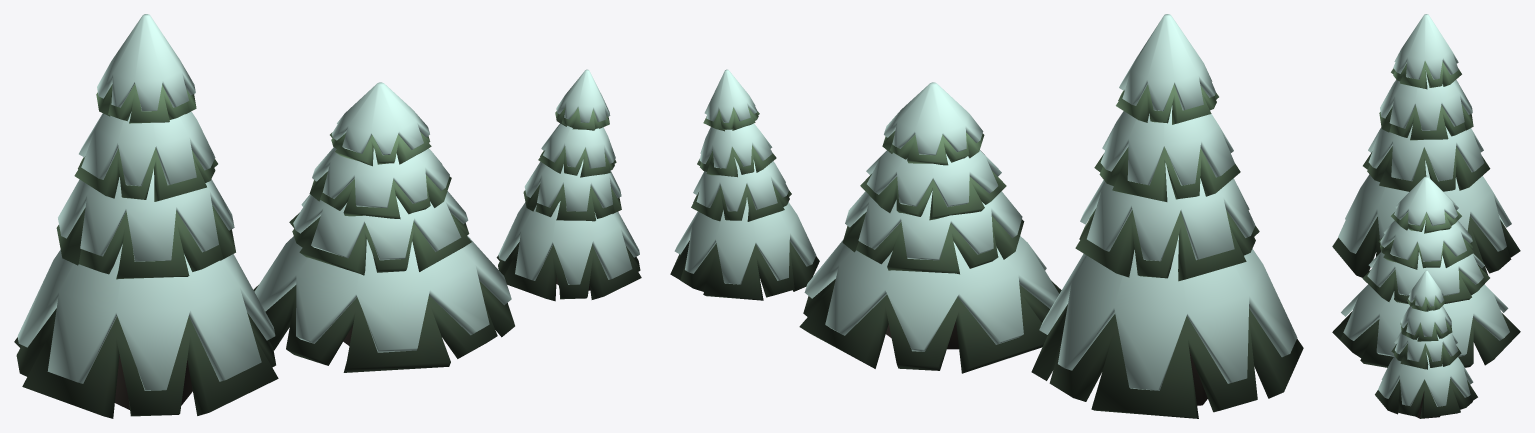
Rendered from trees.glb.
The picture shows the model from 3 angles, left to right: view 1: azimuth 30°, elevation 25°; view 2: azimuth 150°, elevation 25°; view 3: azimuth 270°, elevation 25°; orthographic projection. The views are drawn at different scales.
Parts seen in each view (by area): view 1: Cylinder.018, Cylinder.017, Cylinder.008; view 2: Cylinder.018, Cylinder.017, Cylinder.008; view 3: Cylinder.018, Cylinder.017, Cylinder.008.
Boxes of the visible parts, box(x1,y1,x2,y2) form: Cylinder.018: box(14, 14, 278, 418); Cylinder.017: box(253, 82, 514, 372); Cylinder.008: box(496, 69, 641, 301); Cylinder.018: box(1031, 14, 1303, 418); Cylinder.017: box(799, 82, 1061, 373); Cylinder.008: box(670, 69, 819, 300); Cylinder.018: box(1332, 14, 1520, 277); Cylinder.017: box(1332, 176, 1520, 367); Cylinder.008: box(1375, 270, 1477, 418).
Bounding box in the file's own units: 10.23 × 5.99 × 4.05.
1 material, 1 textured.
